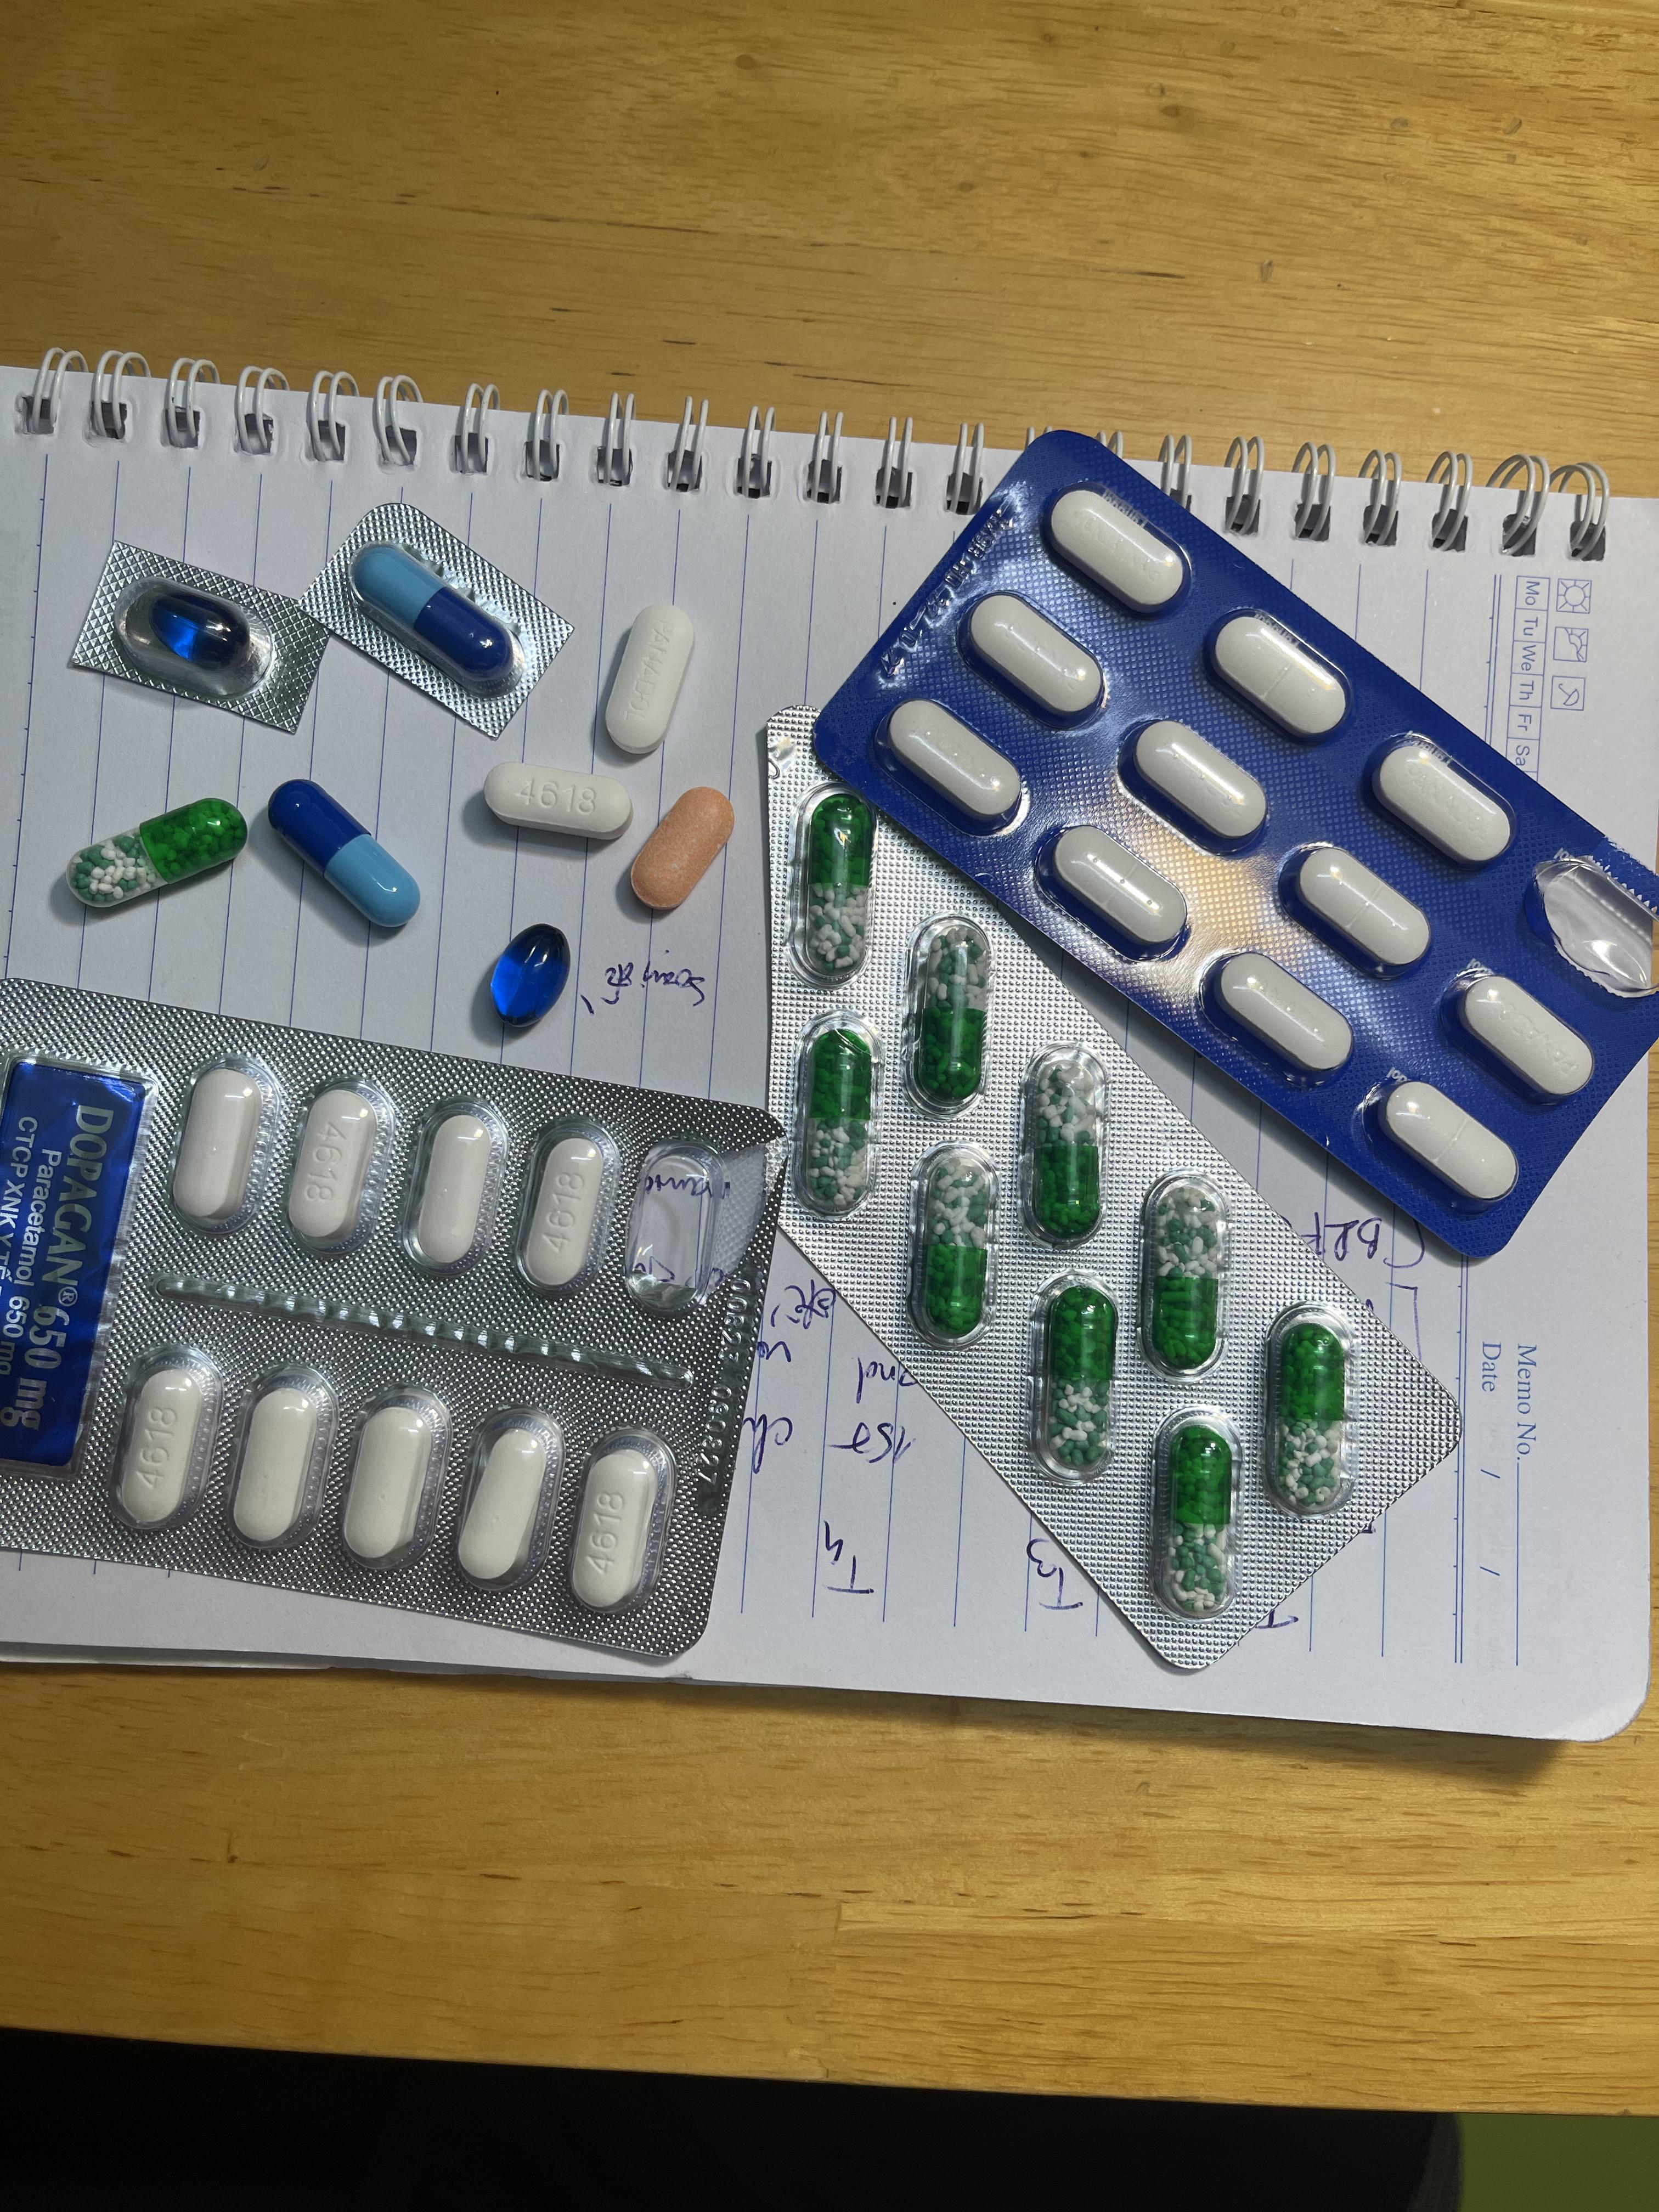Lincomyxin_500mg: (486, 921, 572, 1029), (146, 594, 253, 667)
Loratadine_10mg: (629, 786, 732, 911)
Paracetamol_350mg: (1122, 718, 1270, 852), (1450, 968, 1596, 1103), (1204, 611, 1351, 744), (1368, 735, 1518, 864), (1288, 845, 1432, 975), (1042, 824, 1183, 956), (1204, 953, 1349, 1082), (1382, 1076, 1528, 1202), (884, 700, 1028, 826), (967, 594, 1105, 725), (1047, 484, 1185, 613), (603, 604, 697, 749)
Paracetamol_500mg: (451, 1404, 563, 1590), (225, 1364, 335, 1552), (108, 1348, 220, 1533), (563, 1433, 673, 1618), (338, 1388, 446, 1575), (164, 1057, 274, 1230), (281, 1083, 385, 1249), (514, 1123, 617, 1291), (406, 1108, 505, 1270), (483, 763, 633, 838)
Paracetamol_650mg: (68, 798, 244, 911), (1032, 1277, 1124, 1480), (1138, 1176, 1232, 1371), (1023, 1049, 1112, 1240), (911, 1148, 997, 1339), (1155, 1416, 1236, 1615), (904, 921, 990, 1106), (1269, 1315, 1349, 1505), (798, 1022, 878, 1209), (803, 796, 873, 972)
pill: (265, 780, 416, 934), (356, 543, 516, 688)
